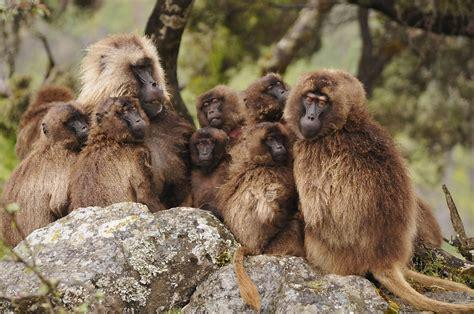monkey: (288, 71, 474, 314), (77, 34, 189, 196), (219, 122, 297, 311), (1, 101, 87, 249), (69, 96, 164, 211), (180, 129, 229, 207), (196, 85, 251, 140), (246, 73, 290, 122)
